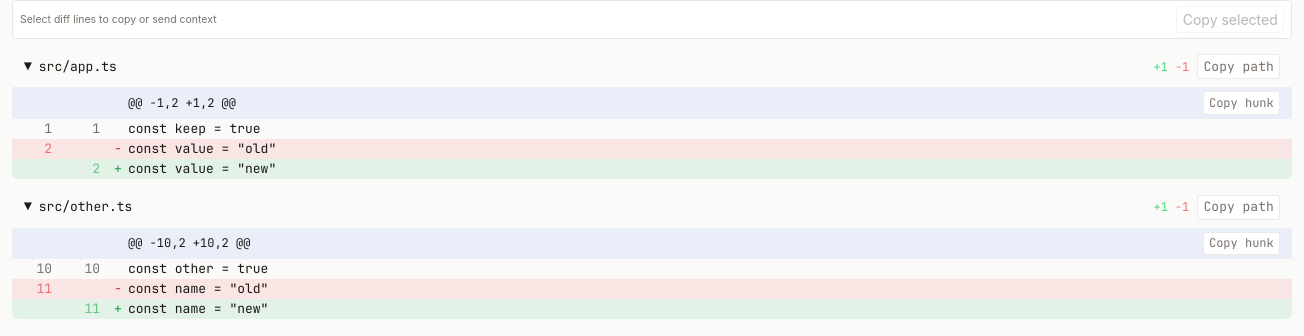
DiffViewer actions › clears all selections when clicking file header chrome in a multi-file diff
This screenshot has width=1304, height=336.
Press the mouse on the button with test id "diff-line-row" showing "2 + const value = \"new\"" at (202, 168), box top-left (12, 158), bottom-right (1292, 178)
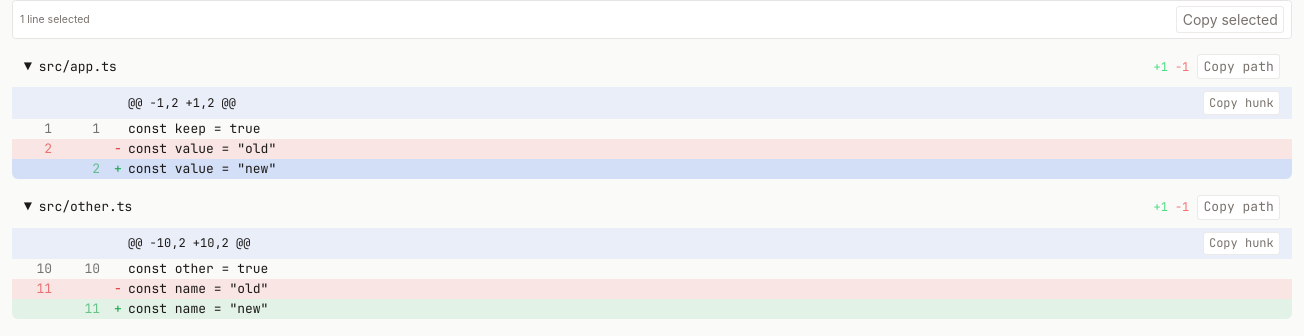
Press the mouse on the button with test id "diff-line-row" showing "11 + const name = \"new\"" at (198, 308), box top-left (12, 299), bottom-right (1292, 319)
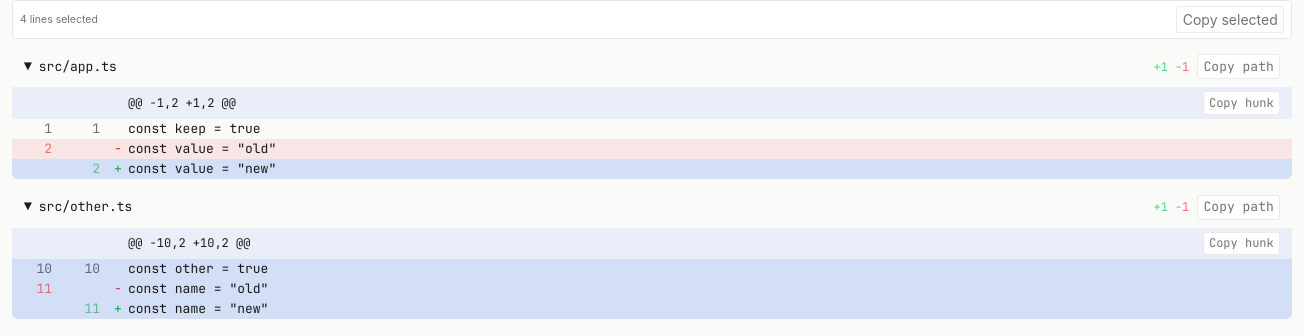
Expected: the text "4 lines selected" is shown, top-left (20, 12), bottom-right (98, 26)
Press the mouse on the button "▼ src/app.ts +1 -1" at (78, 66), box top-left (24, 57), bottom-right (1189, 76)
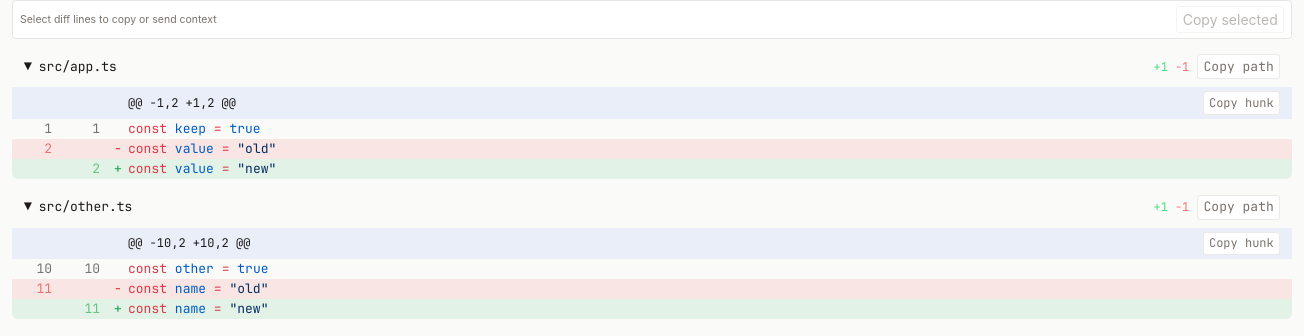
Expected: the text "Select diff lines to copy or send context" is shown, top-left (20, 12), bottom-right (217, 26)
